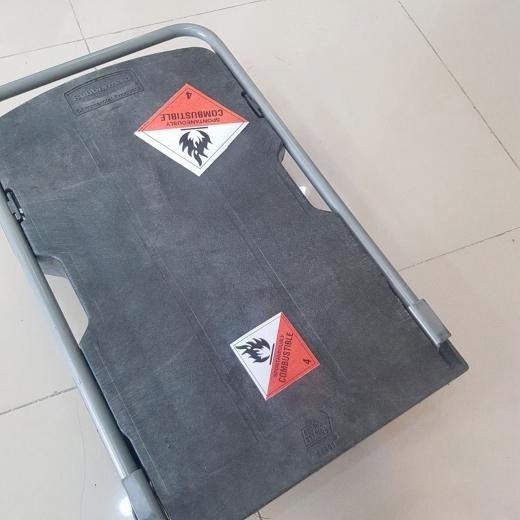spontaneously-combustible: (134, 80, 250, 183), (228, 310, 319, 401)
